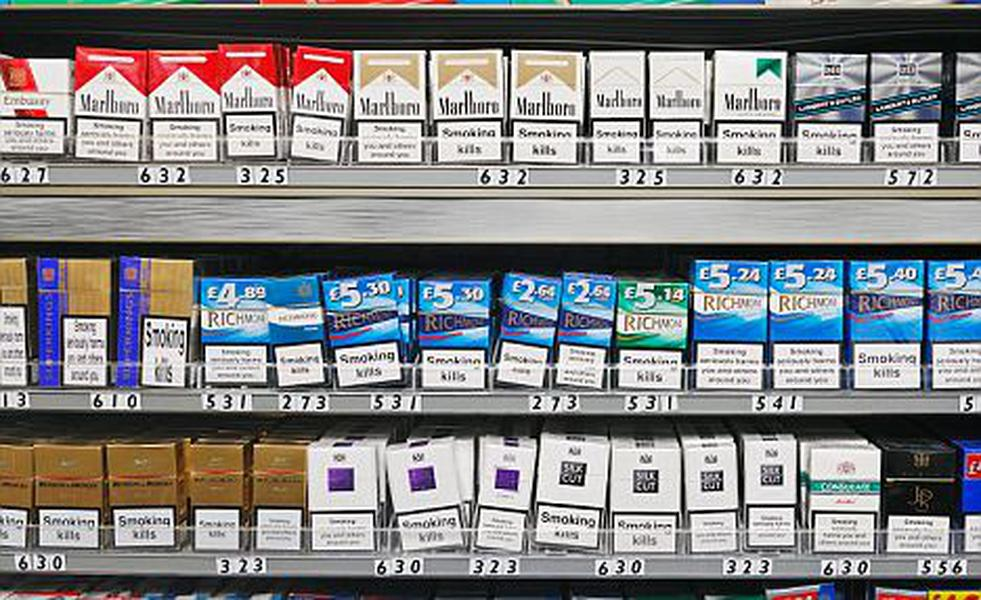marlboro_gold: (652, 54, 704, 168), (591, 53, 643, 163)
marlboro_red: (148, 53, 216, 164), (77, 54, 143, 161), (294, 49, 346, 158), (221, 46, 272, 156)
